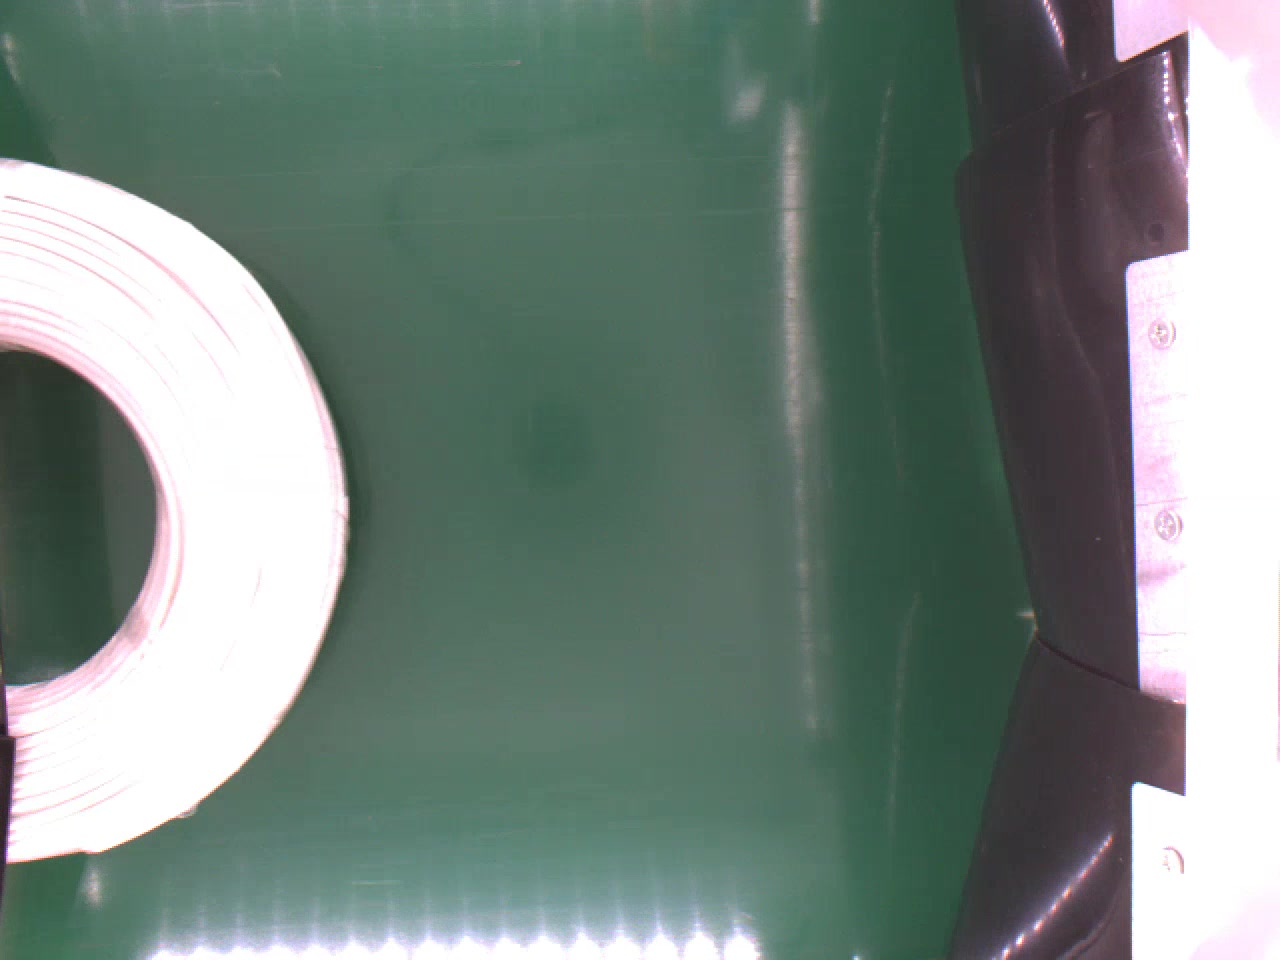white: (0, 152, 354, 869)
